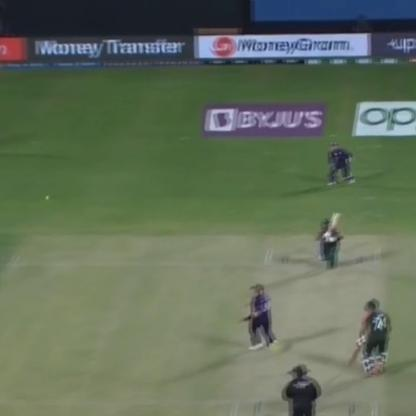ball: (36, 192, 58, 204)
pitch: (242, 232, 391, 415)
